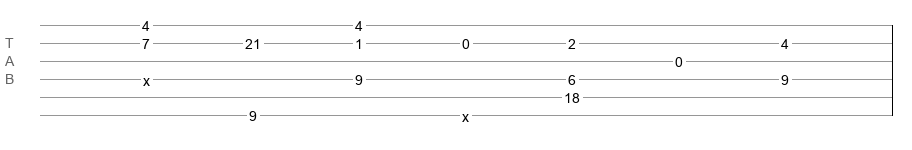0: (462, 36, 470, 46), (675, 54, 683, 64)
1: (355, 36, 363, 46)
18: (564, 90, 580, 100)
2: (568, 36, 576, 46)
21: (245, 36, 261, 46)
4: (142, 18, 150, 28), (355, 18, 363, 28), (781, 36, 789, 46)
6: (568, 72, 576, 82)
7: (142, 36, 150, 46)
9: (249, 108, 257, 118), (355, 72, 363, 82), (781, 72, 789, 82)
x: (143, 73, 150, 81), (462, 109, 469, 117)
